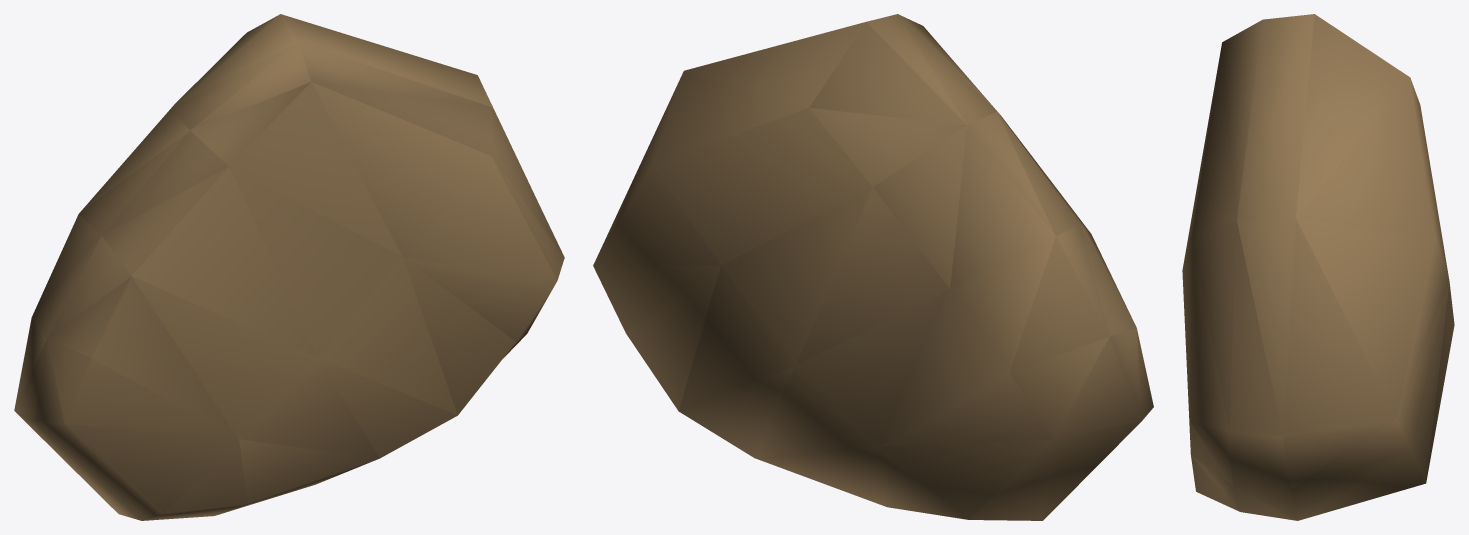
File: SmallSandChunk.010.glb
3 views of the same model, side by side, from view 1: azimuth 30°, elevation 25°; view 2: azimuth 150°, elevation 25°; view 3: azimuth 270°, elevation 25° (orthographic). The views are drawn at different scales.
Visible parts, largest first — view 1: SmallSandChunk.010; view 2: SmallSandChunk.010; view 3: SmallSandChunk.010.
Boxes of the visible parts, bbox=[...] form: SmallSandChunk.010: bbox=[14, 14, 564, 520]; SmallSandChunk.010: bbox=[593, 14, 1153, 520]; SmallSandChunk.010: bbox=[1182, 14, 1454, 520].
Bounding box in the file's own units: 381 × 319 × 160.
